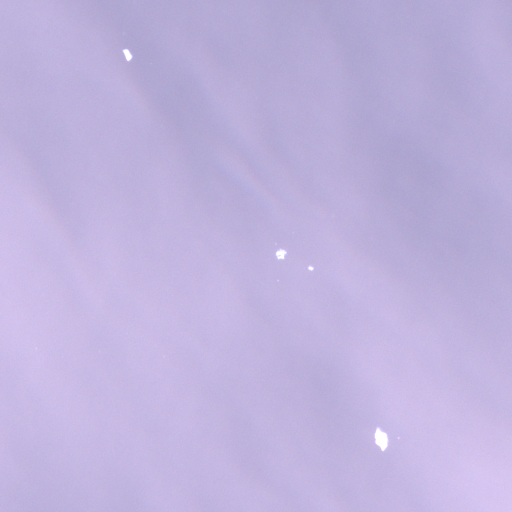Iceberg: (374, 428, 387, 450), (122, 49, 131, 60), (275, 249, 286, 258), (308, 266, 313, 269)
